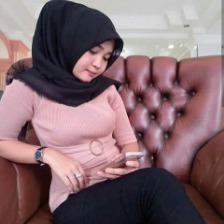Non Syar-i: (11, 0, 126, 109)
